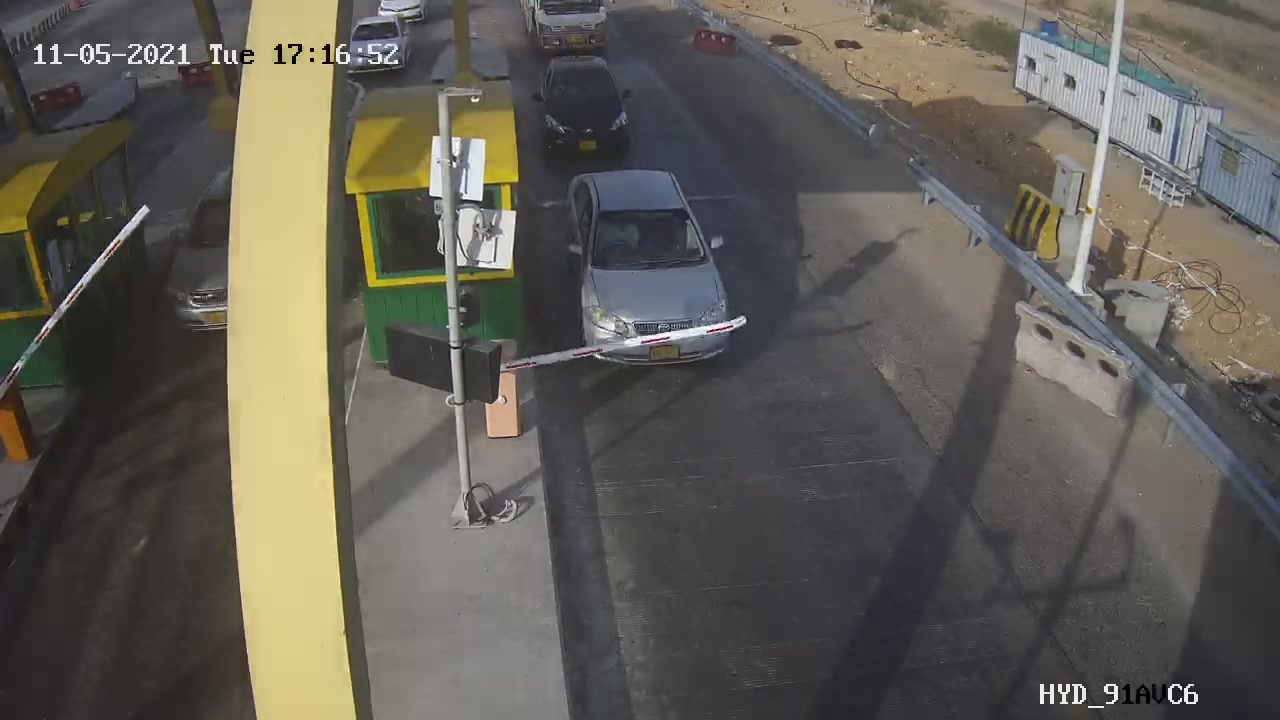F1: (547, 164, 752, 372), (516, 43, 648, 174)
